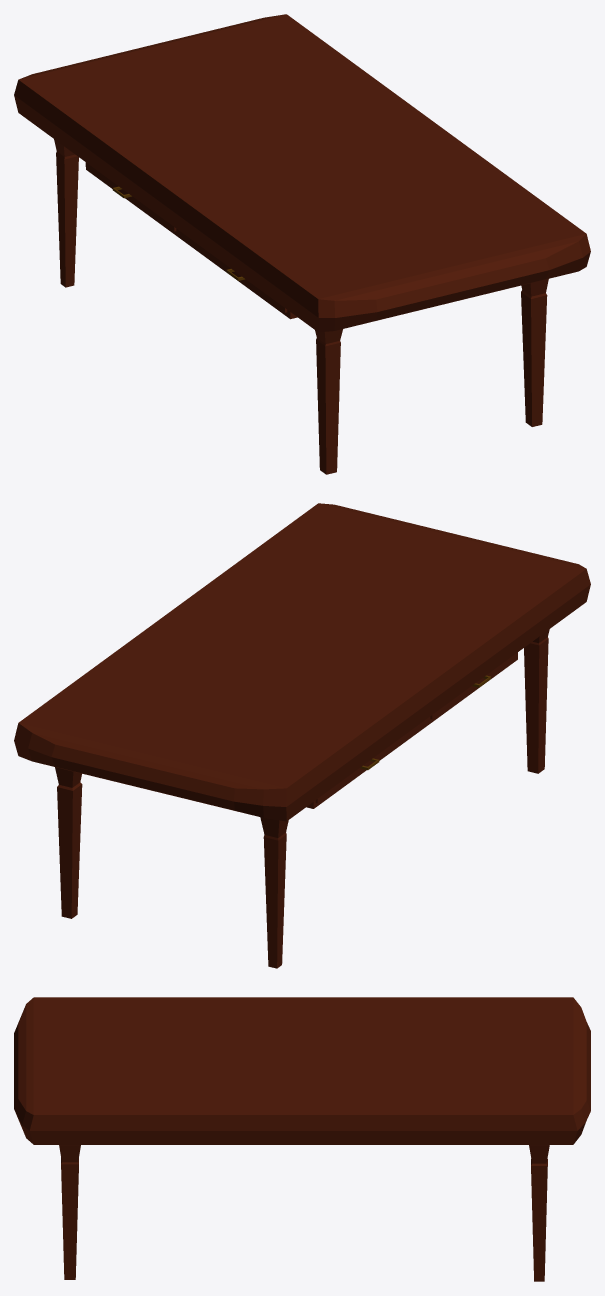
Rendered from largeTable.obj.
3 renders of one model, top to bottom at view 1: azimuth 30°, elevation 25°; view 2: azimuth 150°, elevation 25°; view 3: azimuth 270°, elevation 25°, orthographic. The views are drawn at different scales.
Parts seen in each view (by area): view 1: table; view 2: table; view 3: table.
Part boxes in pixels (x1,y1,x2,y2): table: (14, 14, 590, 474); table: (14, 503, 590, 968); table: (14, 997, 590, 1281).
Bounding box in the file's own units: 227 × 158 × 462.
